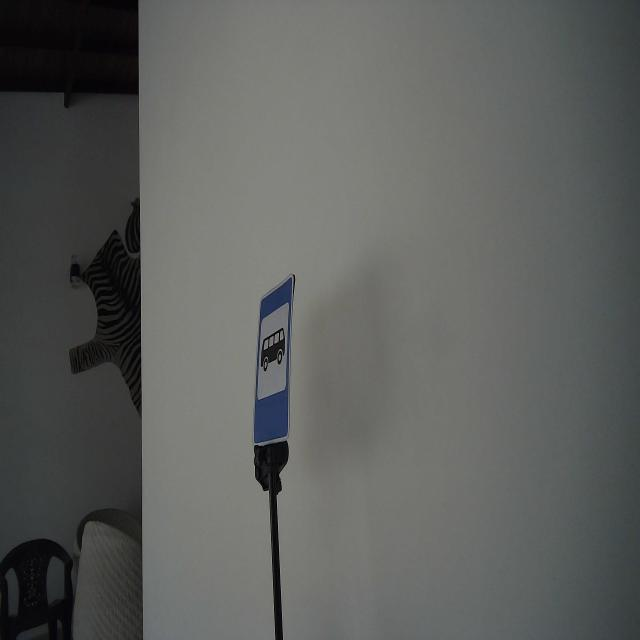bus_stop: (250, 273, 296, 453)
